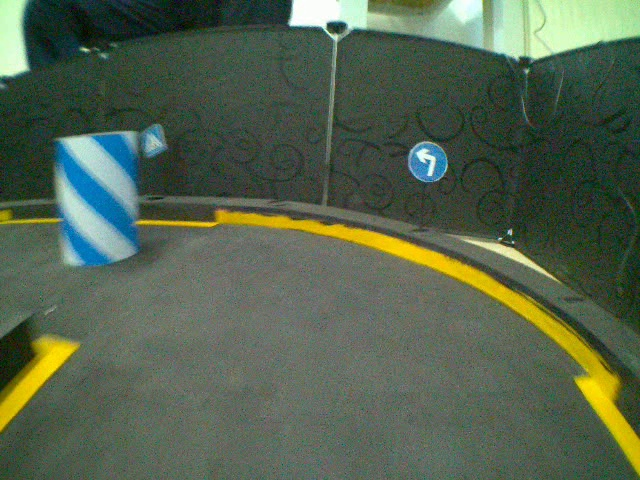bucket: (50, 128, 141, 268)
